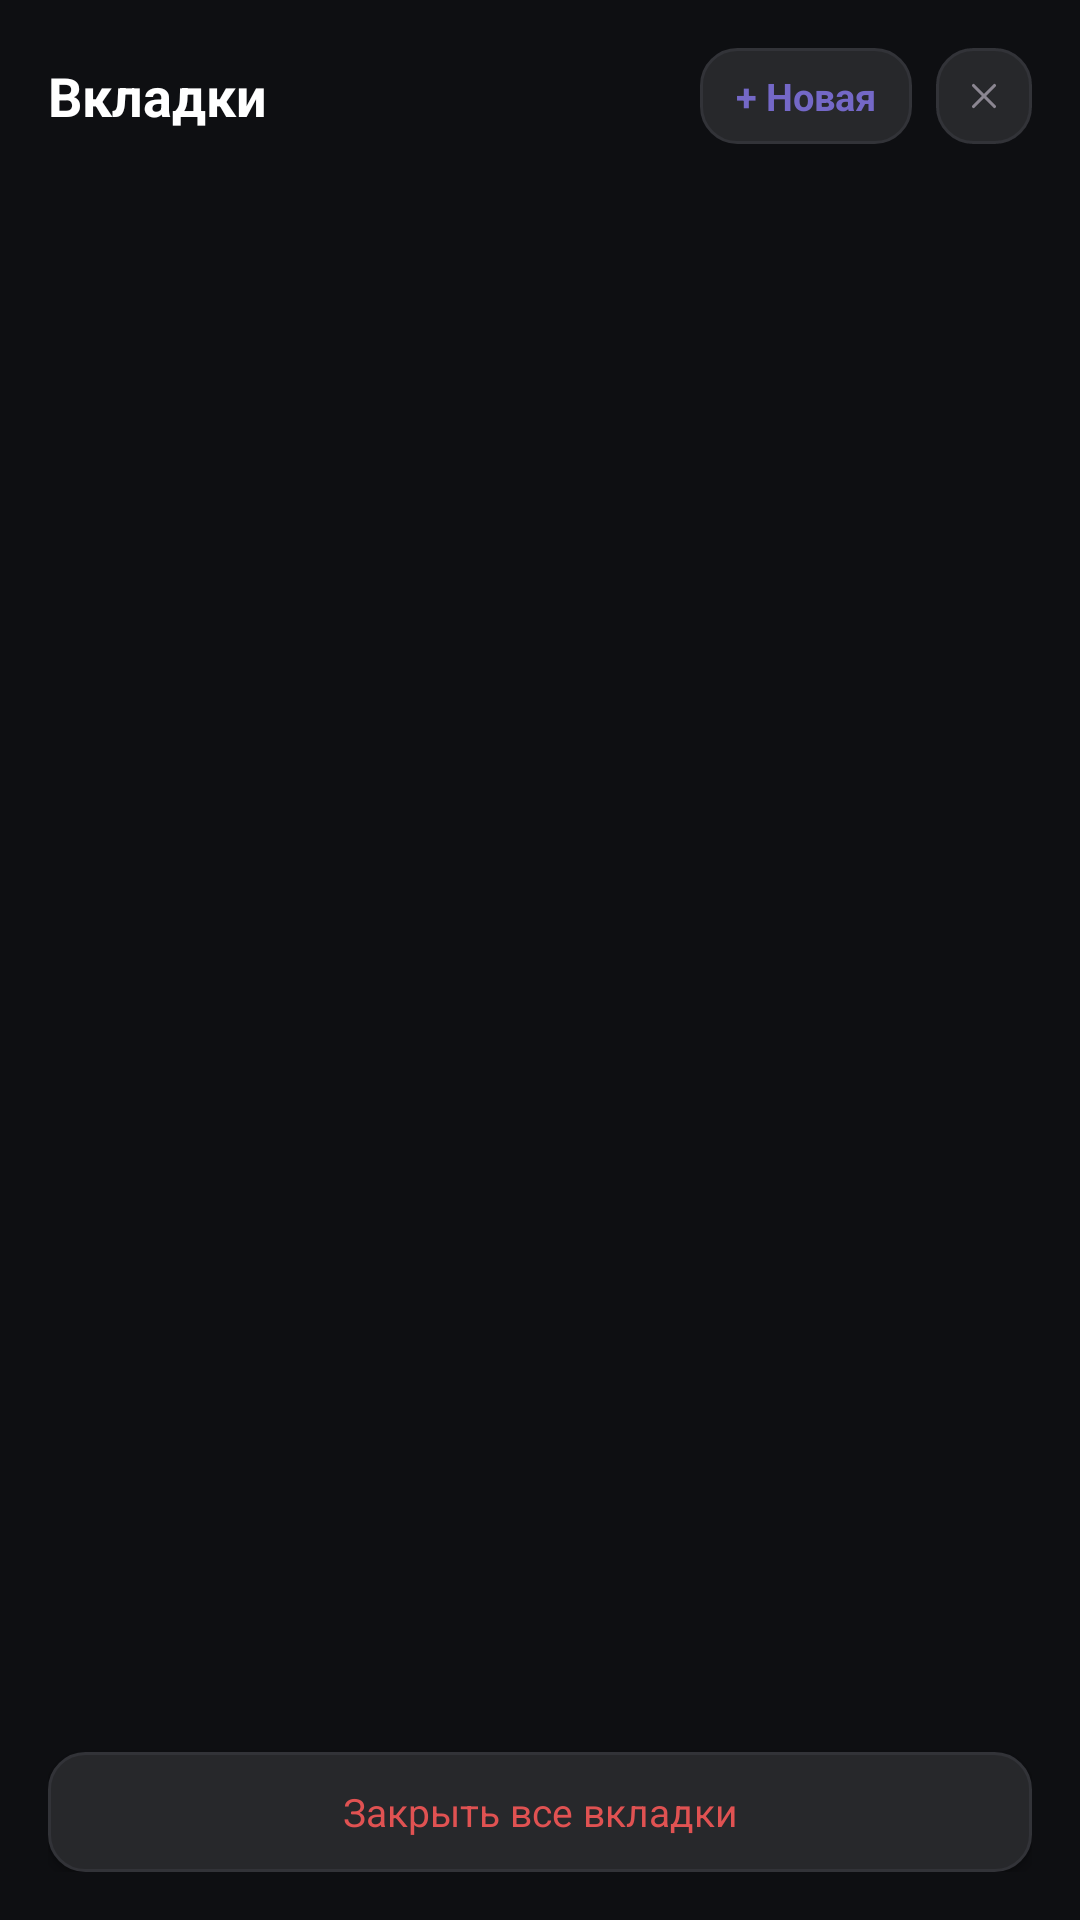

Point at icon controls on the screen. Image size 1080px x 1920px, points as (x=x, y=y).
close: (x=984, y=96)
